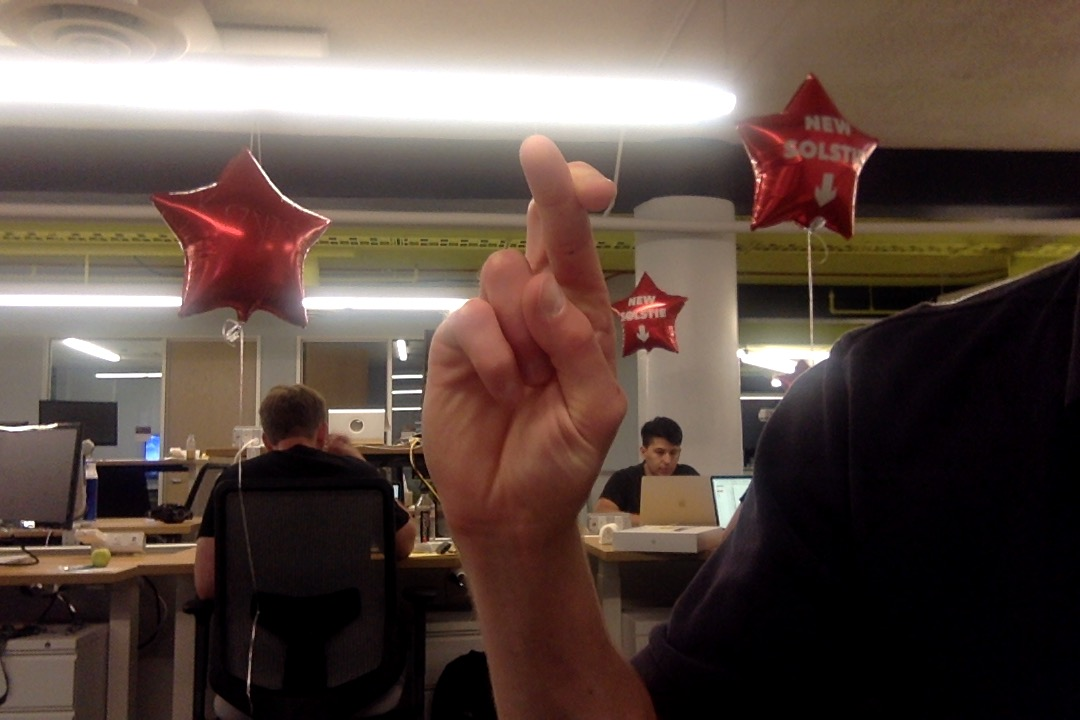r: (416, 125, 638, 548)
